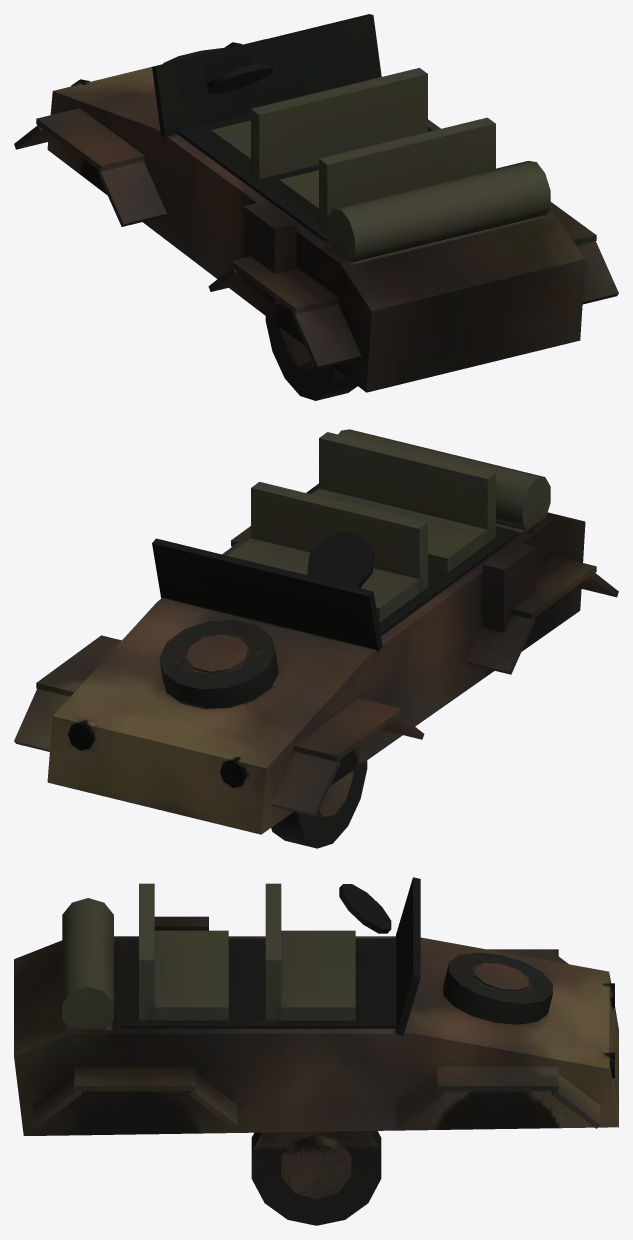
The model's file is kubelwagen.glb.
The picture shows the model from 3 angles, top to bottom: view 1: azimuth 30°, elevation 25°; view 2: azimuth 150°, elevation 25°; view 3: azimuth 270°, elevation 25°; orthographic projection. The views are drawn at different scales.
Visible parts, largest first — view 1: hull_ko, wheels_L_0_ko, wheels_L_1_ko; view 2: hull_ko, wheels_L_0_ko; view 3: hull_ko, wheels_L_0_ko, wheels_L_1_ko, wheels_R_3_ko.
Part boxes in pixels (x1,y1,x2,y2): hull_ko: [14, 14, 618, 392]; wheels_L_0_ko: [266, 317, 357, 400]; wheels_L_1_ko: [265, 316, 354, 394]; hull_ko: [14, 429, 618, 834]; wheels_L_0_ko: [271, 760, 367, 848]; hull_ko: [14, 877, 618, 1135]; wheels_L_0_ko: [251, 1131, 381, 1225]; wheels_L_1_ko: [252, 1131, 380, 1219]; wheels_R_3_ko: [252, 1179, 374, 1216].
Bounding box in the file's own units: 1.66 × 1.74 × 3.1.
6 materials, 6 textured.
